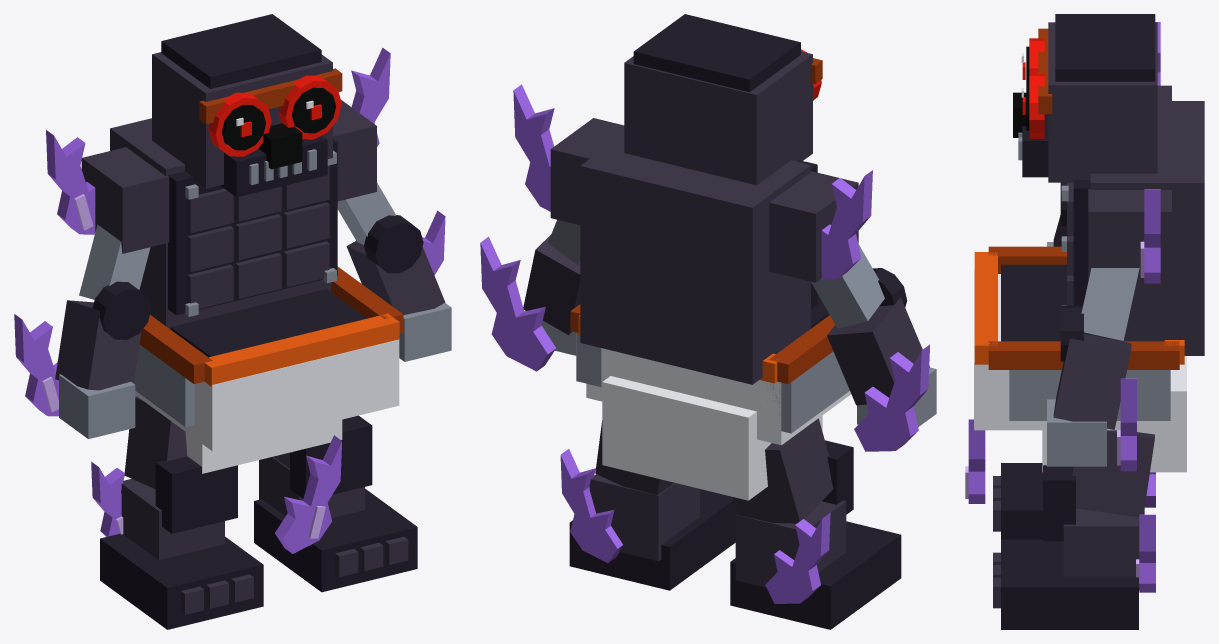
Rendered from ToilettoFocaccino_Mini.glb.
The picture shows the model from 3 angles, left to right: view 1: azimuth 30°, elevation 25°; view 2: azimuth 150°, elevation 25°; view 3: azimuth 270°, elevation 25°; orthographic projection. The views are drawn at different scales.
Visible parts, largest first — view 1: ToilettoFocaccino_Mini; view 2: ToilettoFocaccino_Mini; view 3: ToilettoFocaccino_Mini.
Boxes of the visible parts, left/top/right/bottom form: ToilettoFocaccino_Mini: left=14, top=14, right=451, bottom=629; ToilettoFocaccino_Mini: left=480, top=14, right=936, bottom=629; ToilettoFocaccino_Mini: left=965, top=14, right=1204, bottom=629.
Bounding box in the file's own units: 1.71 × 2 × 0.8256.
Materials: 1 (1 with a texture image).
